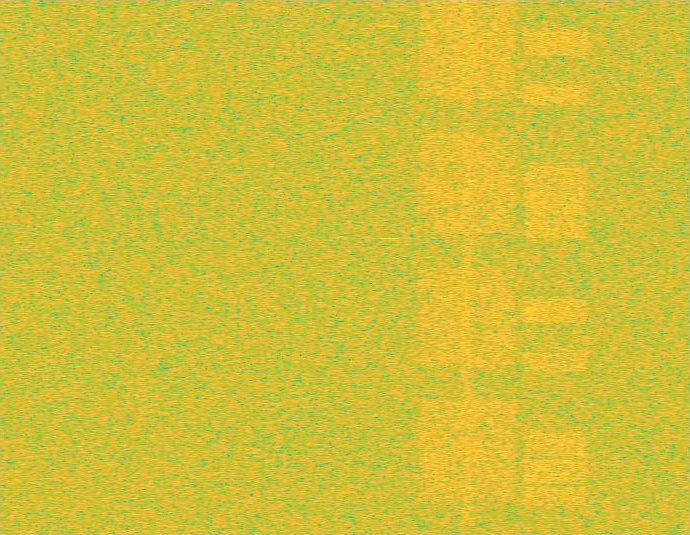5G: (416, 0, 519, 534)
DSSS: (460, 0, 474, 534)
LTE: (521, 0, 590, 534)
Radar: (382, 0, 396, 534)
